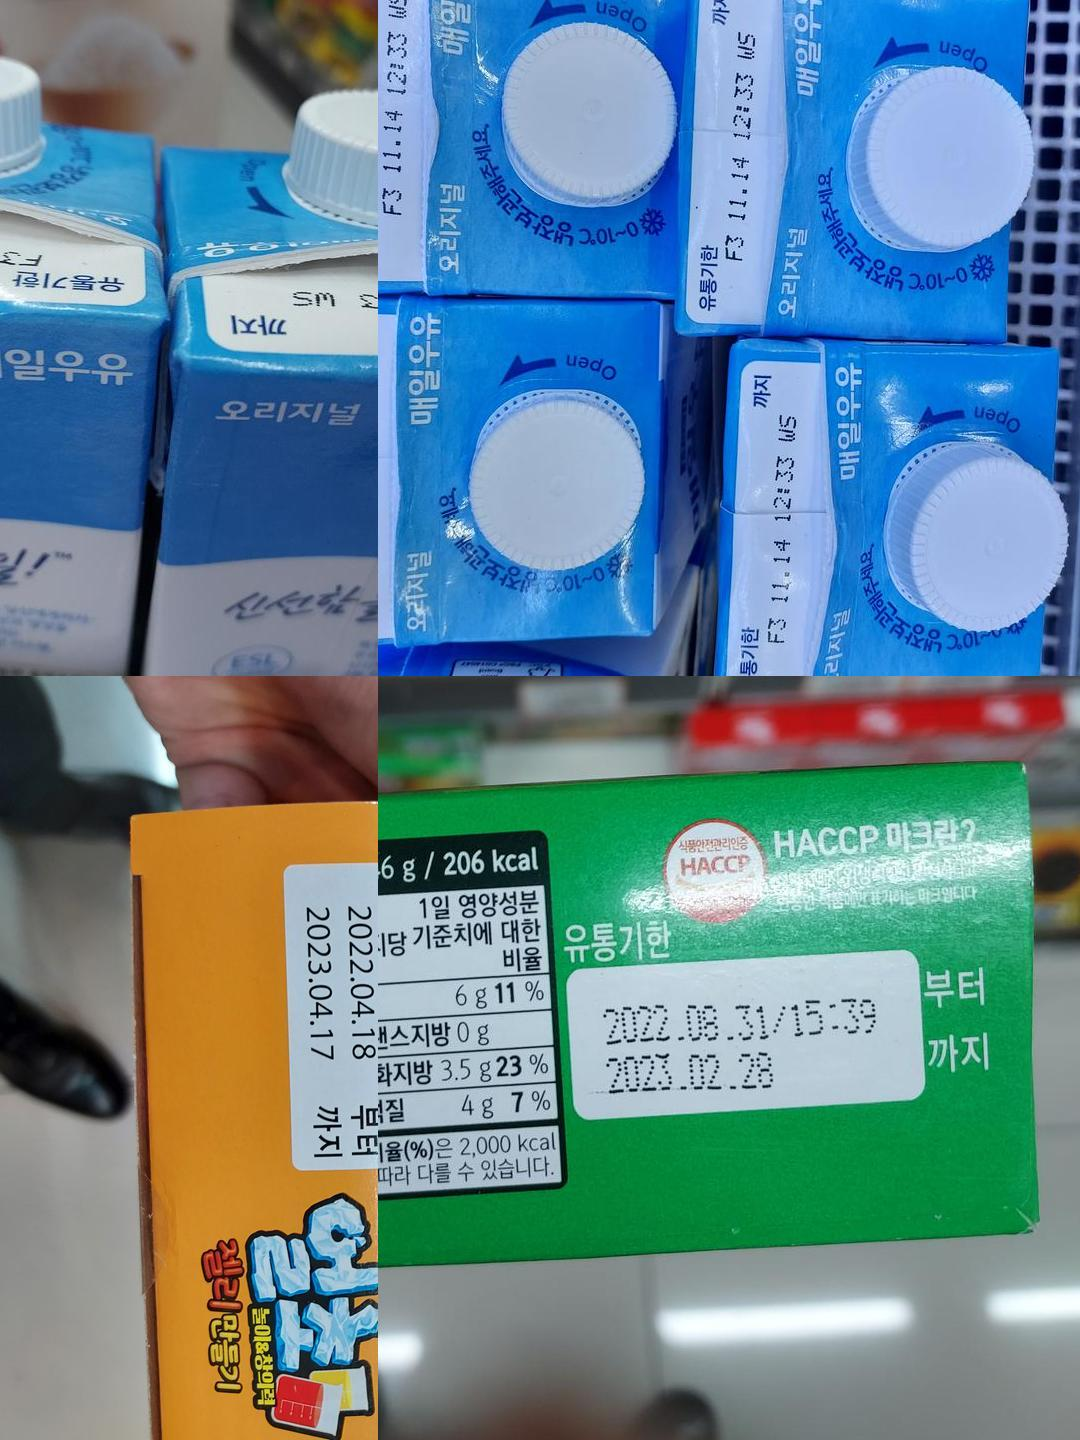milk: (697, 0, 773, 328), (739, 358, 815, 676), (0, 215, 253, 303), (201, 265, 378, 365), (378, 0, 428, 280), (378, 315, 415, 642)
snack food: (565, 973, 917, 1108), (292, 859, 378, 1093)
